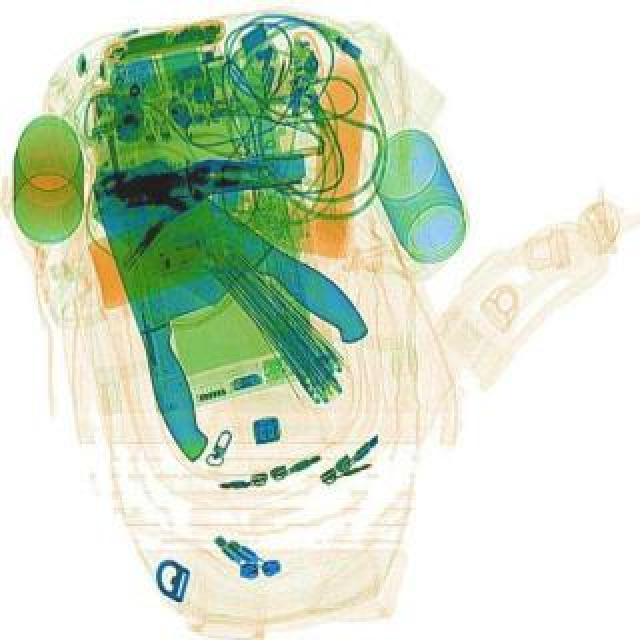gun: (86, 146, 382, 388), (86, 152, 266, 464)
